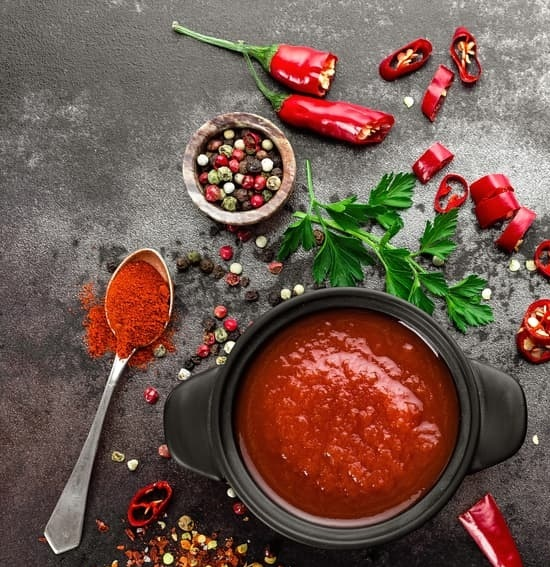sambal: (250, 333, 442, 502)
